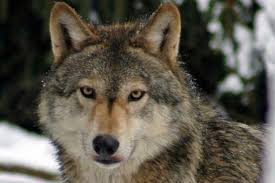wolf: (28, 1, 273, 183)
